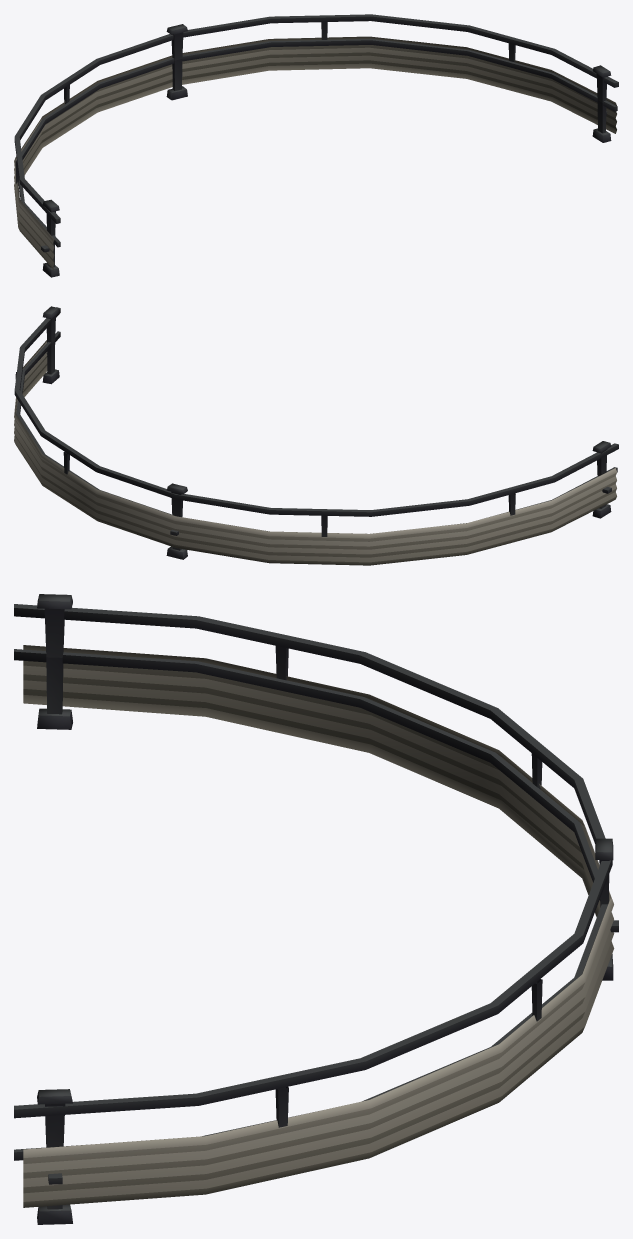
The model's file is Fence_3C.fbx.
3 renders of one model, top to bottom at view 1: azimuth 30°, elevation 25°; view 2: azimuth 150°, elevation 25°; view 3: azimuth 270°, elevation 25°, orthographic. The views are drawn at different scales.
Parts seen in each view (by area): view 1: Fence_3C; view 2: Fence_3C; view 3: Fence_3C.
Boxes of the visible parts, x1,y1,x2,y2 form: Fence_3C: (14,14,618,277); Fence_3C: (14,306,618,565); Fence_3C: (14,594,618,1224).
Size of the model in its own units: 3748 by 437 by 1877.
